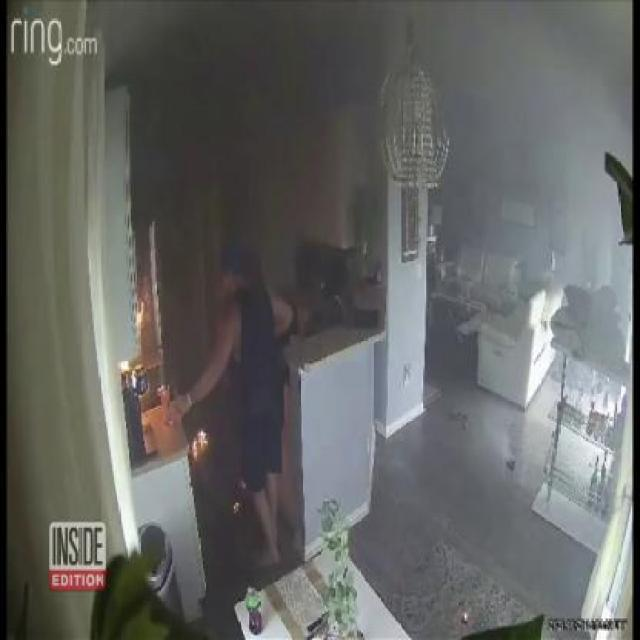fire: (192, 424, 214, 464)
smoke: (456, 16, 596, 212), (144, 26, 322, 166)
